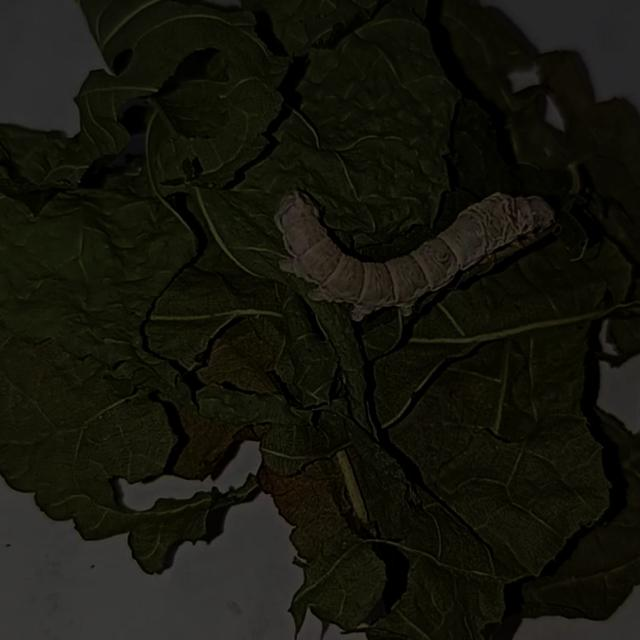Healthy: (263, 171, 581, 344)
